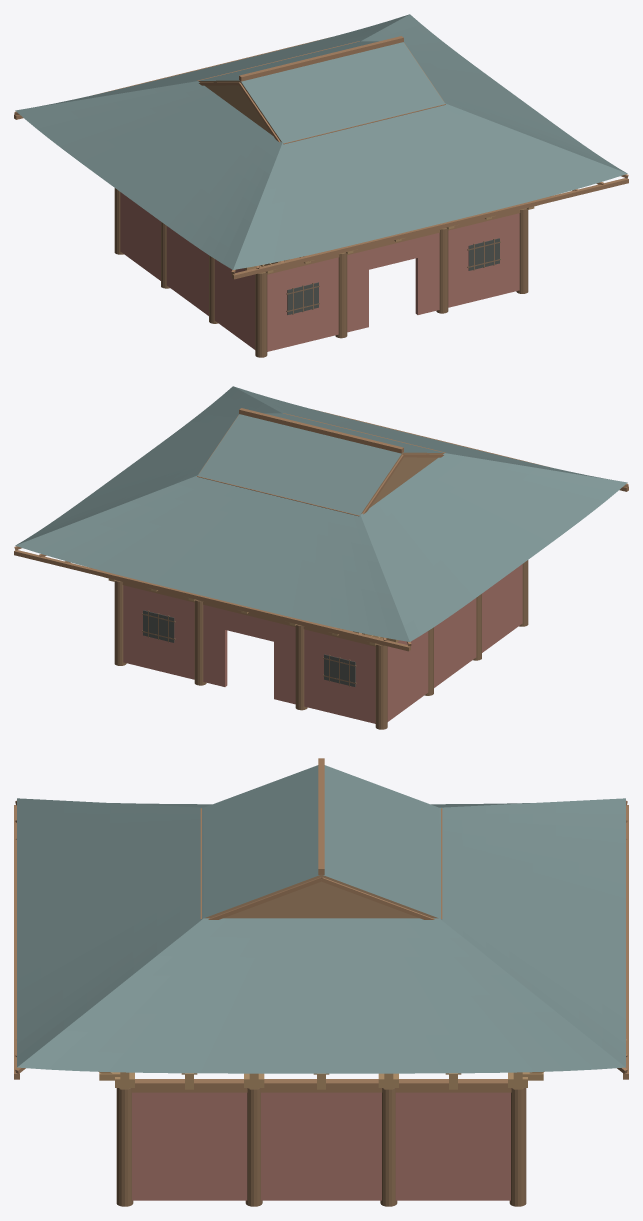
The model's file is WANFO_FULL_V002.glb.
The picture shows the model from 3 angles, top to bottom: view 1: azimuth 30°, elevation 25°; view 2: azimuth 150°, elevation 25°; view 3: azimuth 270°, elevation 25°; orthographic projection. The views are drawn at different scales.
Visible parts, largest first — view 1: TMP_XIESHAN_STITCHED_SURFACE_V002, TMP_FRONT_WALL_2, TMP_FRONT_WALL_0, TMP_SIDE_WALL_-1_0, TMP_SIDE_WALL_-1_1, TMP_PURLIN_N_1, TMP_SIDE_WALL_-1_2, TMP_FRONT_DOOR_JAMB_1, TMP_FRONT_DOOR_JAMB_-1, TMP_ROOF_RIDGE, TMP_COLUMN_0_0, TMP_FRONT_DOOR_HEADER (+6 smaller); view 2: TMP_XIESHAN_STITCHED_SURFACE_V002, TMP_REAR_WALL_2, TMP_REAR_WALL_0, TMP_SIDE_WALL_-1_2, TMP_SIDE_WALL_-1_1, TMP_PURLIN_S_1, TMP_SIDE_WALL_-1_0, TMP_REAR_DOOR_JAMB_1, TMP_REAR_DOOR_JAMB_-1, TMP_ROOF_RIDGE, TMP_COLUMN_0_3, TMP_REAR_DOOR_HEADER (+6 smaller); view 3: TMP_XIESHAN_STITCHED_SURFACE_V002, TMP_SIDE_WALL_1_1, TMP_SIDE_WALL_1_0, TMP_SIDE_WALL_1_2, TMP_RIM_Y_3, TMP_COLUMN_3_0, TMP_COLUMN_3_3, TMP_COLUMN_3_1, TMP_COLUMN_3_2, TMP_PURLIN_N_1, TMP_PURLIN_S_1, TMP_ROOF_RIDGE.
Boxes of the visible parts, <box> form: TMP_XIESHAN_STITCHED_SURFACE_V002: <box>15,14,627,269</box>; TMP_FRONT_WALL_2: <box>448,213,519,307</box>; TMP_FRONT_WALL_0: <box>267,257,338,351</box>; TMP_SIDE_WALL_-1_0: <box>214,259,255,349</box>; TMP_SIDE_WALL_-1_1: <box>166,226,208,315</box>; TMP_PURLIN_N_1: <box>232,178,628,279</box>; TMP_SIDE_WALL_-1_2: <box>120,192,160,280</box>; TMP_FRONT_DOOR_JAMB_1: <box>415,233,439,314</box>; TMP_FRONT_DOOR_JAMB_-1: <box>347,250,368,332</box>; TMP_ROOF_RIDGE: <box>239,36,403,81</box>; TMP_COLUMN_0_0: <box>255,272,267,357</box>; TMP_FRONT_DOOR_HEADER: <box>369,238,417,269</box>; TMP_XIESHAN_STITCHED_SURFACE_V002: <box>15,386,627,641</box>; TMP_REAR_WALL_2: <box>123,585,194,679</box>; TMP_REAR_WALL_0: <box>304,629,375,723</box>; TMP_SIDE_WALL_-1_2: <box>387,631,428,721</box>; TMP_SIDE_WALL_-1_1: <box>434,598,476,687</box>; TMP_PURLIN_S_1: <box>14,550,410,651</box>; TMP_SIDE_WALL_-1_0: <box>482,564,522,652</box>; TMP_REAR_DOOR_JAMB_1: <box>203,605,227,686</box>; TMP_REAR_DOOR_JAMB_-1: <box>274,622,295,704</box>; TMP_ROOF_RIDGE: <box>239,408,403,453</box>; TMP_COLUMN_0_3: <box>375,644,387,729</box>; TMP_REAR_DOOR_HEADER: <box>225,610,273,641</box>; TMP_XIESHAN_STITCHED_SURFACE_V002: <box>17,765,625,1073</box>; TMP_SIDE_WALL_1_1: <box>261,1092,381,1200</box>; TMP_SIDE_WALL_1_0: <box>132,1092,247,1200</box>; TMP_SIDE_WALL_1_2: <box>395,1092,510,1200</box>; TMP_RIM_Y_3: <box>131,1079,511,1092</box>; TMP_COLUMN_3_0: <box>116,1088,133,1206</box>; TMP_COLUMN_3_3: <box>509,1088,526,1206</box>; TMP_COLUMN_3_1: <box>245,1088,262,1206</box>; TMP_COLUMN_3_2: <box>380,1088,397,1206</box>; TMP_PURLIN_N_1: <box>14,805,19,1079</box>; TMP_PURLIN_S_1: <box>623,805,628,1079</box>; TMP_ROOF_RIDGE: <box>318,758,324,874</box>.
Size of the model in its own units: 17454 by 9040 by 16755.
